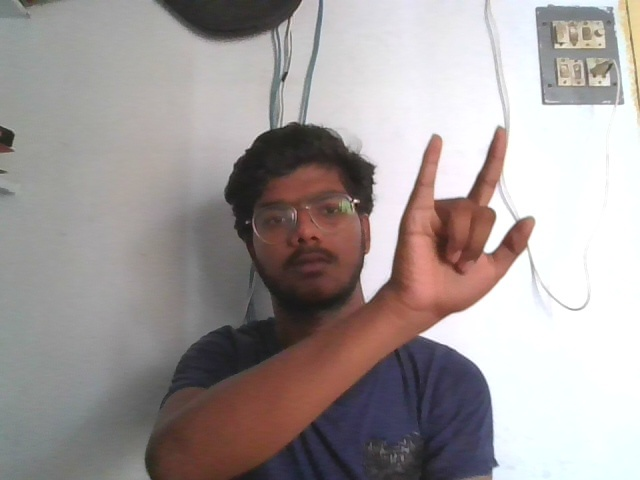IloveYou: (391, 119, 539, 315)
